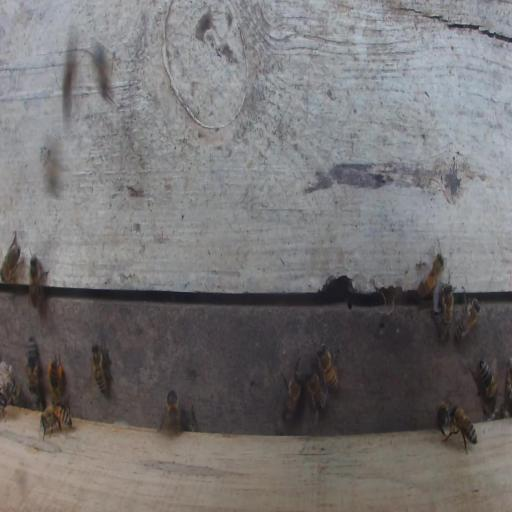nonpollenbee: (438, 402, 477, 453), (433, 267, 457, 344), (315, 342, 348, 395), (87, 40, 114, 104), (40, 397, 76, 442), (281, 356, 302, 423), (417, 252, 445, 300), (455, 294, 480, 343), (90, 343, 112, 398), (305, 369, 329, 416), (29, 254, 49, 310), (1, 233, 22, 283), (41, 146, 61, 194), (159, 389, 181, 432), (25, 338, 40, 396), (478, 358, 497, 401), (2, 363, 21, 404), (437, 400, 453, 437), (0, 390, 8, 422)
pollenbee: (47, 356, 62, 400)
